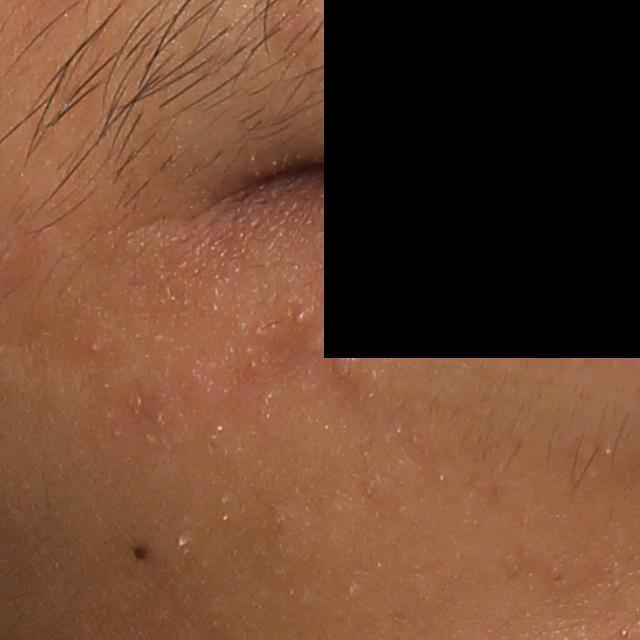nevus: (122, 537, 151, 564)
